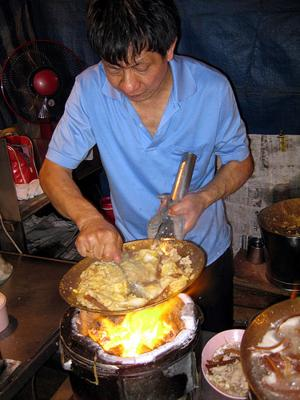person: (42, 3, 254, 330)
